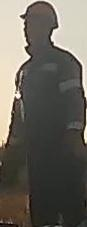gloves: (0, 144, 24, 185), (64, 127, 86, 163)
helmet: (18, 0, 59, 33)
vest: (12, 52, 86, 159)
